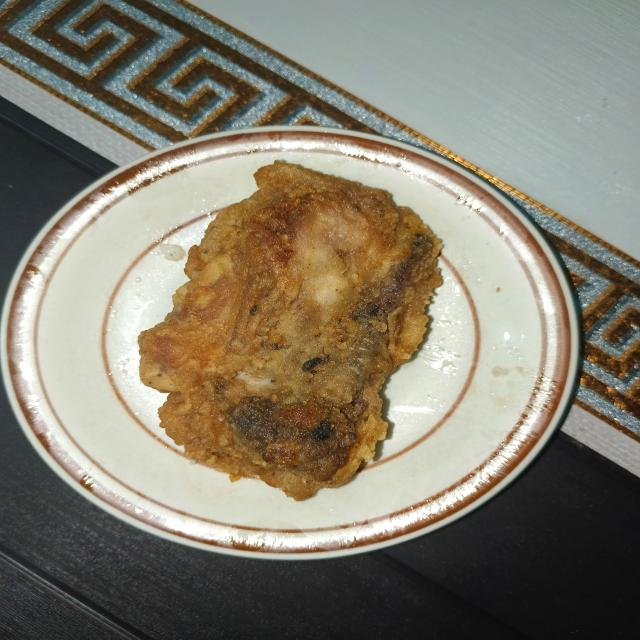Chicken -Fried Chicken-: (117, 158, 470, 514)
